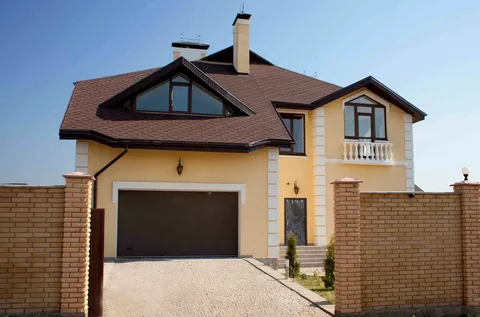private_hause: (68, 56, 342, 264)
